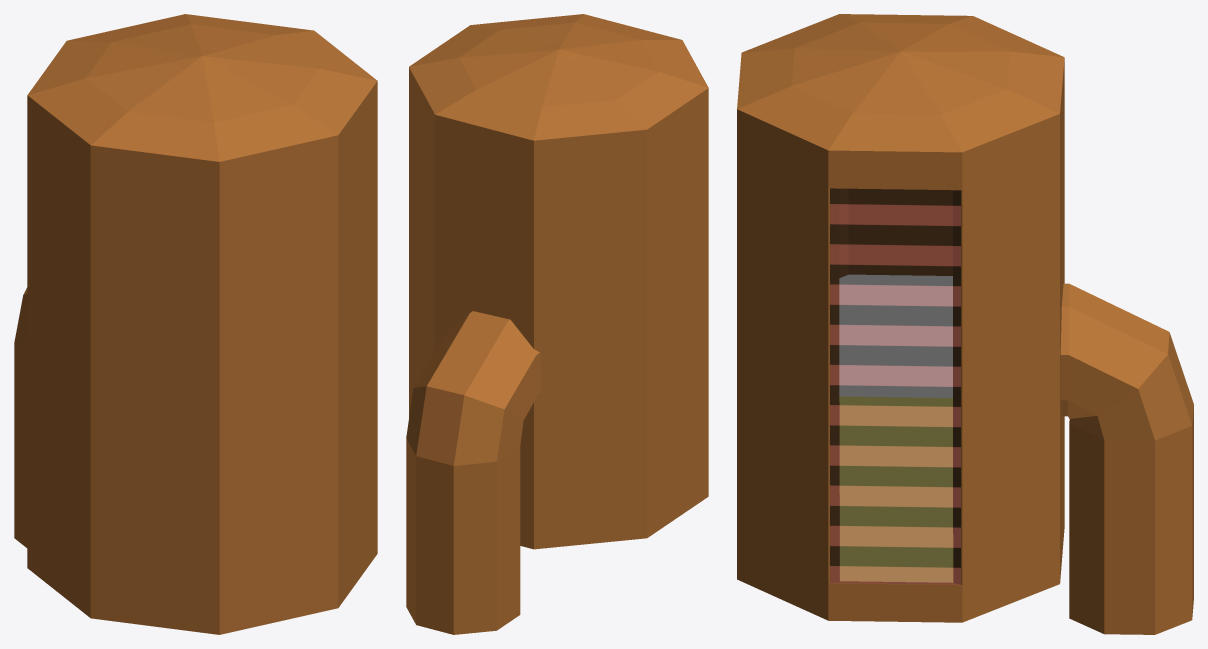
File: VAT90.glb
3 views of the same model, side by side, from view 1: azimuth 30°, elevation 25°; view 2: azimuth 150°, elevation 25°; view 3: azimuth 270°, elevation 25° (orthographic). The views are drawn at different scales.
Parts seen in each view (by area): view 1: Cylinder, Cylinder.001; view 2: Cylinder, Cylinder.001; view 3: Cylinder, glass, Cylinder.001, liquidHeight.
Part boxes in pixels (box(x1,y1,x2,y2)): Cylinder: box(27, 14, 377, 634); Cylinder.001: box(14, 287, 27, 547); Cylinder: box(409, 14, 708, 549); Cylinder.001: box(406, 311, 541, 634); Cylinder: box(737, 14, 1064, 622); glass: box(830, 188, 960, 584); Cylinder.001: box(1060, 283, 1193, 634); liquidHeight: box(839, 275, 952, 582).
Bounding box in the file's own units: 1.82 × 3.44 × 2.54.
Materials: 4 (1 with a texture image).
